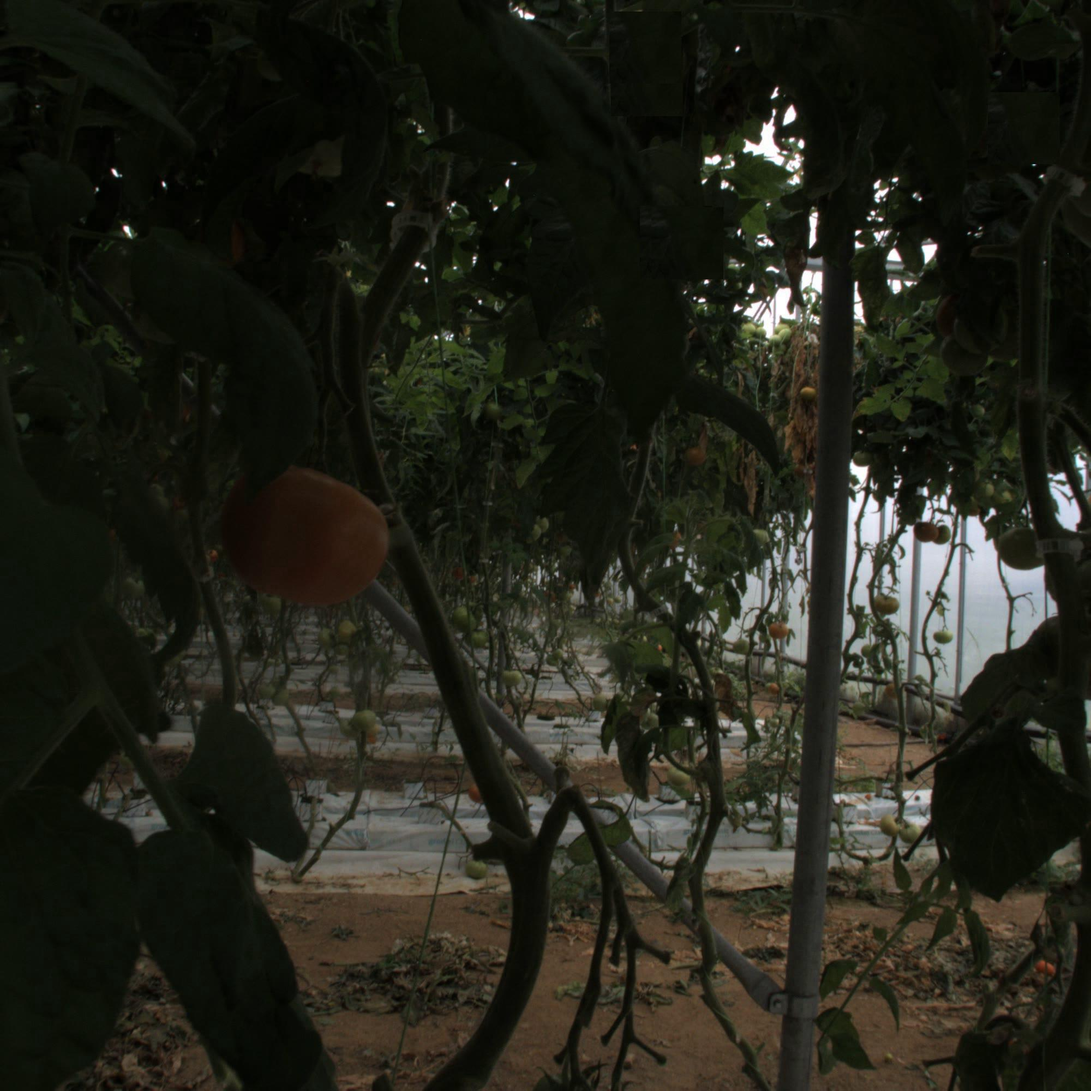fully-ripe: (242, 463, 383, 605)
